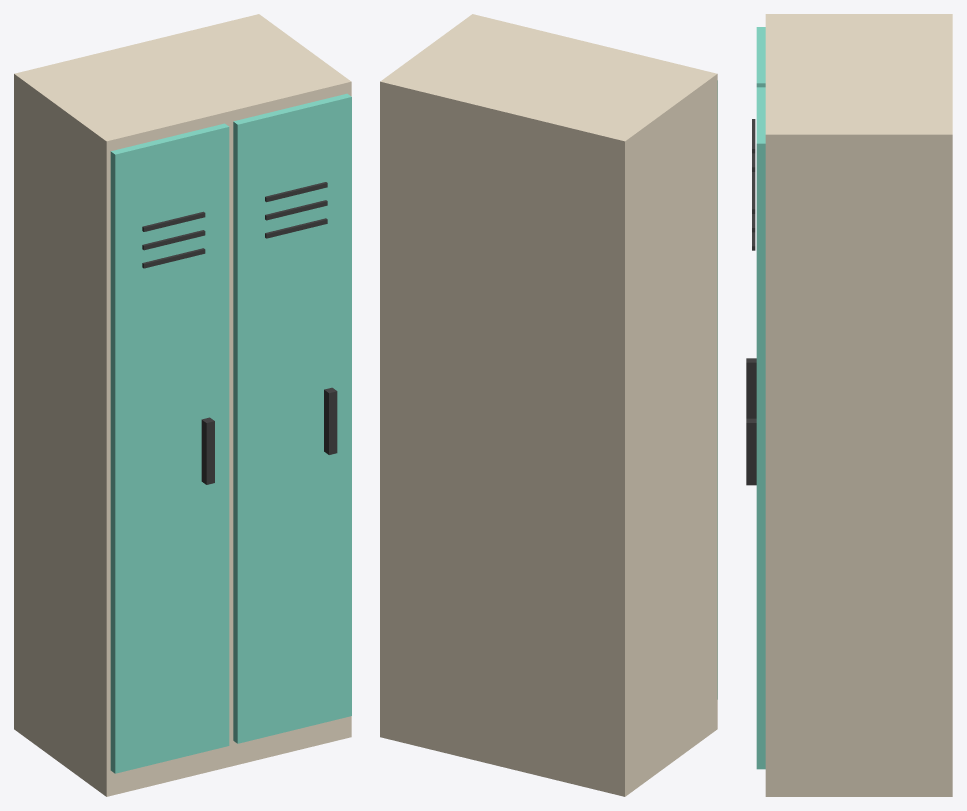
The picture shows the model from 3 angles, left to right: view 1: azimuth 30°, elevation 25°; view 2: azimuth 150°, elevation 25°; view 3: azimuth 270°, elevation 25°; orthographic projection.
Visible parts, largest first — view 1: Case, Door, Door.001, Handle, Handle.001; view 2: Case, Door; view 3: Case, Door.001, Handle.001, Handle, Door.
Part boxes in pixels (box(x1,y1,x2,y2)): Case: box(14, 14, 351, 796); Door: box(110, 123, 229, 773); Door.001: box(233, 93, 351, 743); Handle: box(201, 417, 214, 484); Handle.001: box(324, 387, 337, 454); Case: box(380, 14, 717, 796); Door: box(717, 80, 717, 699); Case: box(765, 14, 952, 796); Door.001: box(756, 87, 765, 769); Handle.001: box(746, 418, 756, 485); Handle: box(746, 358, 756, 418); Door: box(756, 27, 765, 87).
Size of the model in its own units: 70.4 by 180 by 50.75.
